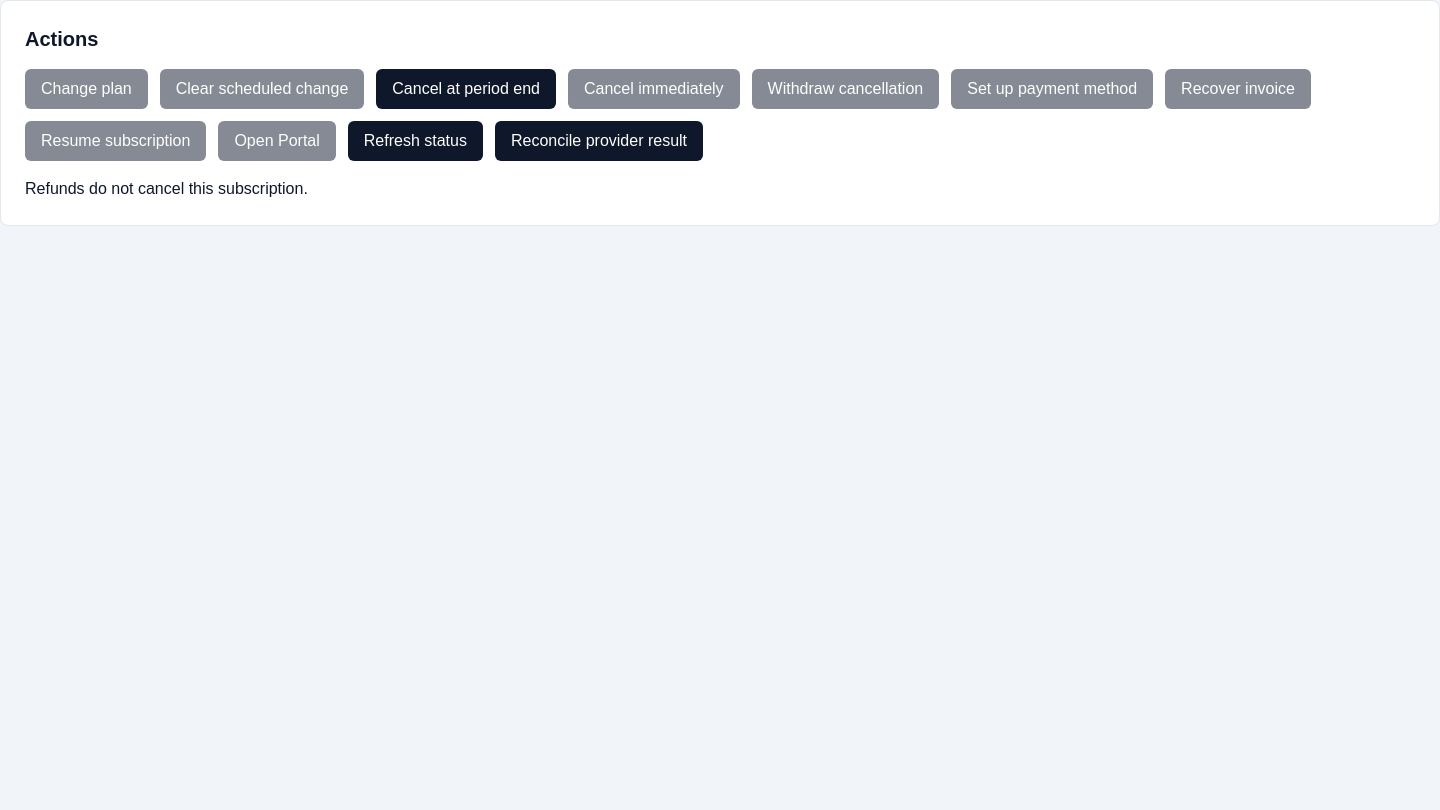
Test case: uses server permitted actions and refreshes a stale mutation without reapplying
Expected: the button "Cancel immediately" is disabled, 568,69 -> 740,109
Click the button "Cancel at period end" at coordinates (466, 89), box 376,69 -> 556,109
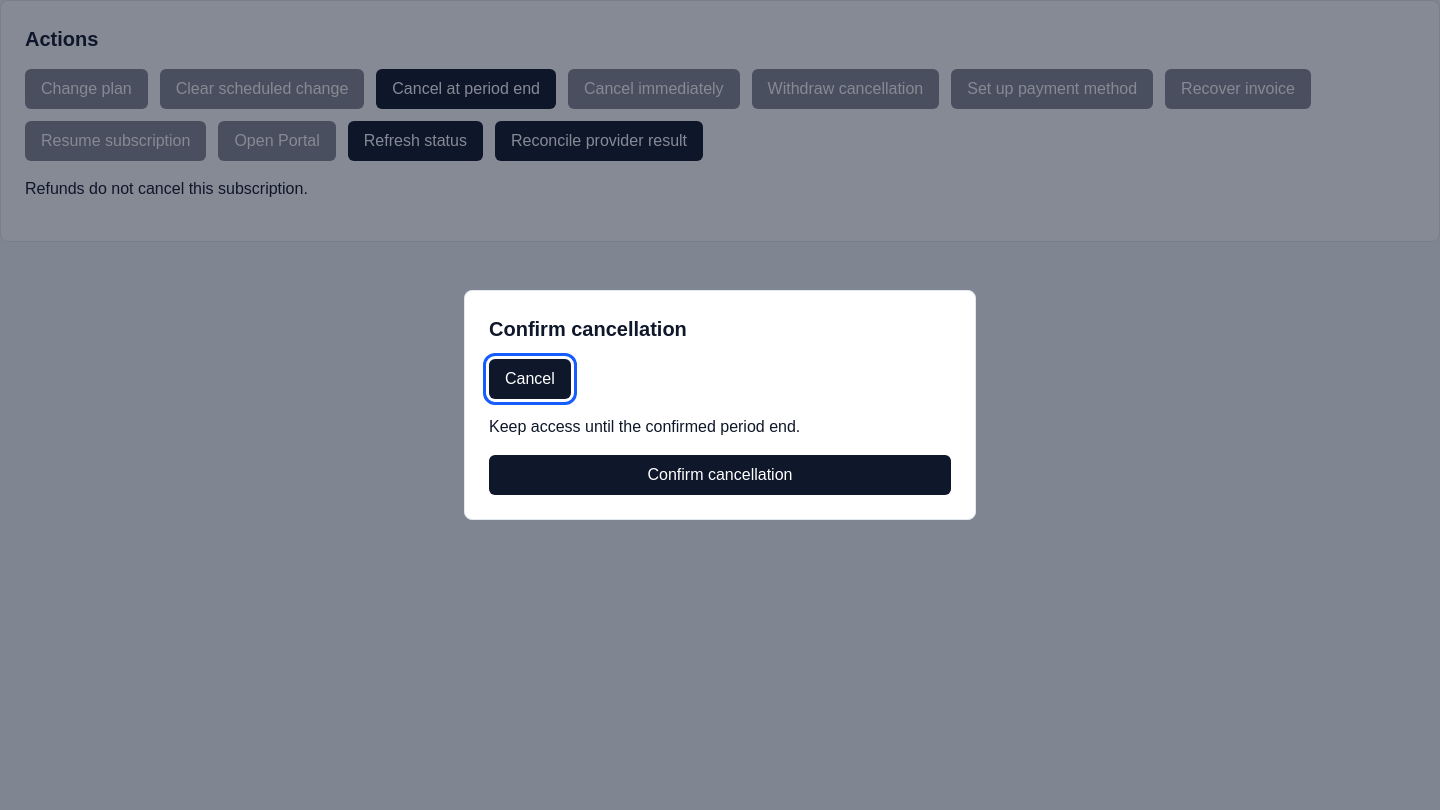
Click the button "Confirm cancellation" at coordinates (720, 475), box 489,455 -> 951,495
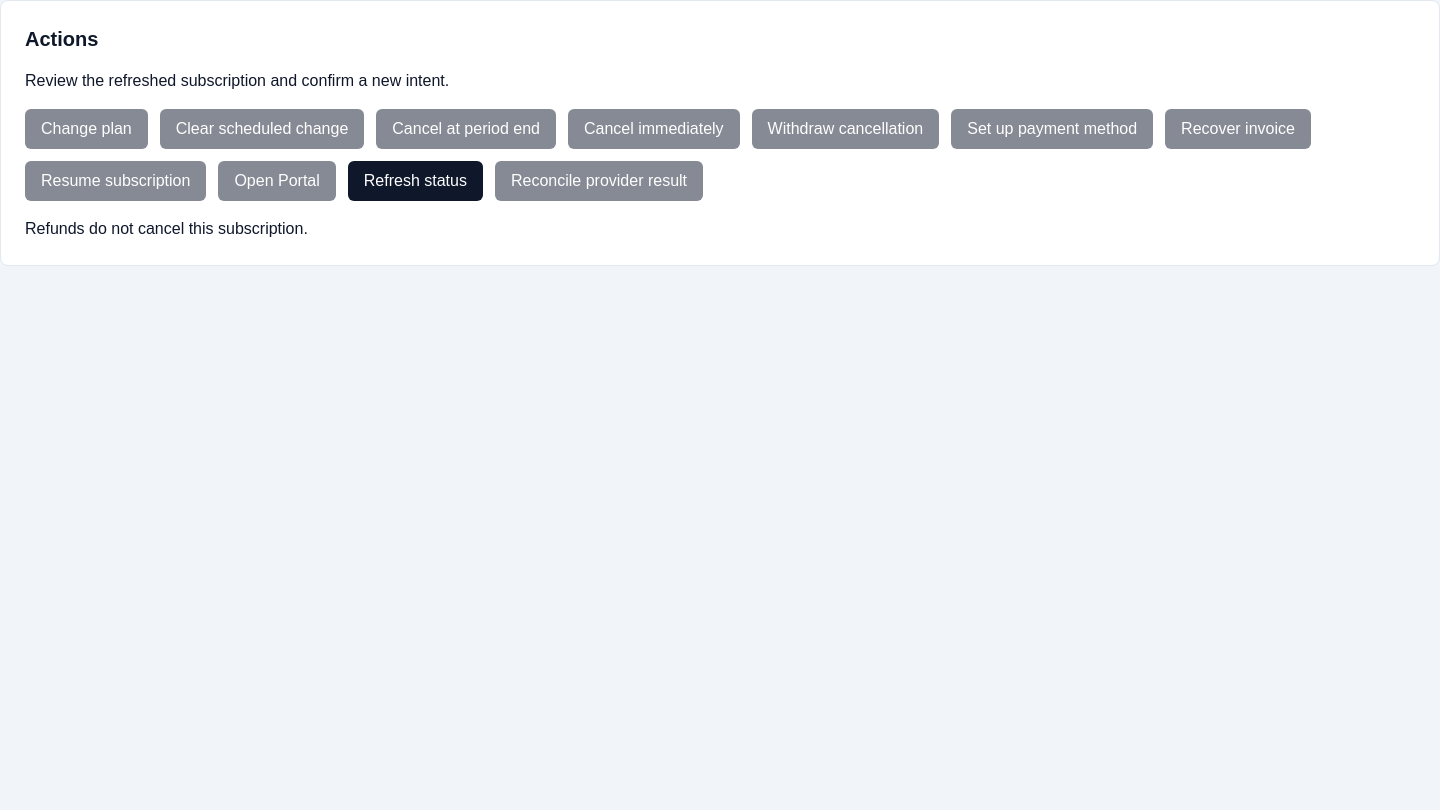
Expected: the text "Review the refreshed subscription and confirm a new intent." is shown, 25,72 -> 449,89
Expected: the heading "Confirm cancellation" is gone
